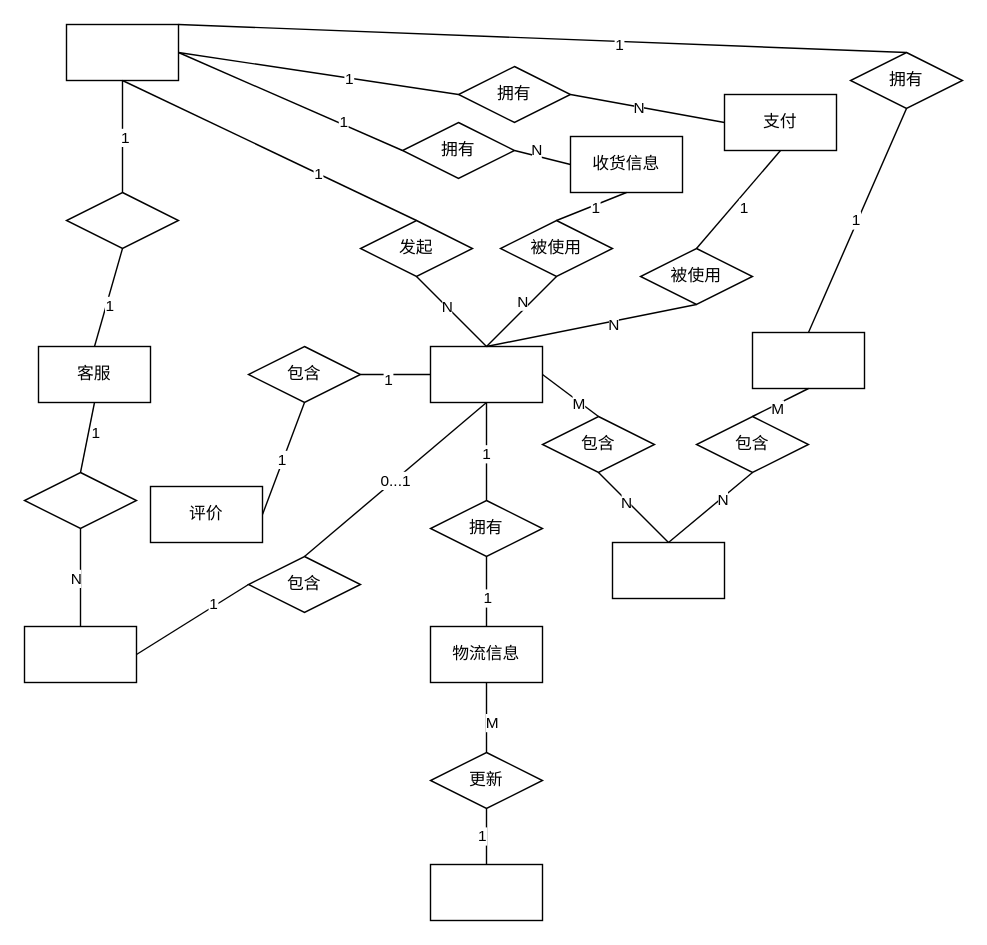
This 987x945 diagram has some shape labels left out. Each missing label, with the box of its shape:
买家: (429, 863, 542, 920)
售后服务: (23, 625, 136, 682)
商品: (611, 541, 724, 598)
处理: (23, 471, 136, 528)
用户: (65, 23, 178, 80)
被服务: (65, 191, 178, 248)
订单: (429, 345, 542, 402)
购物车: (751, 331, 864, 388)
